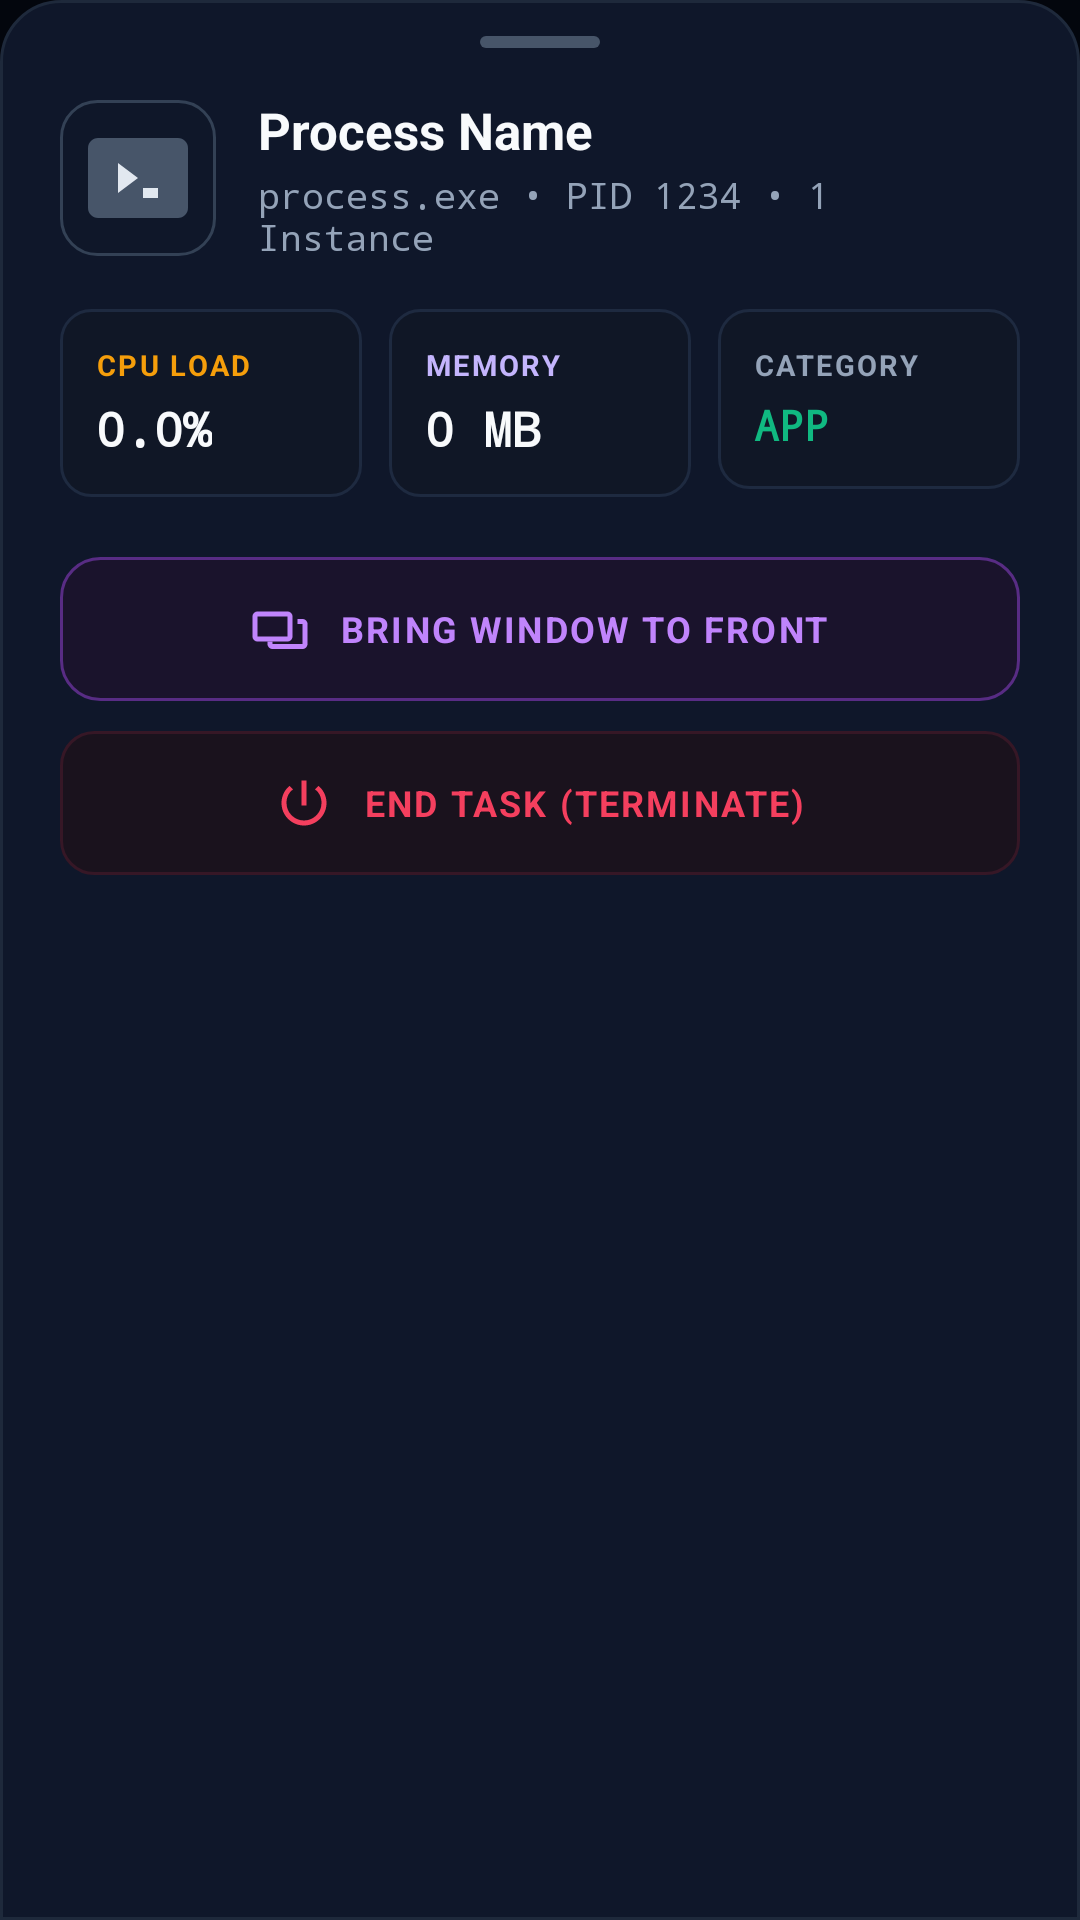

Screen size 1080w x 1920h. Icon name, then its center in pixels as point (x, y):
Focus Window: point (280, 630)
